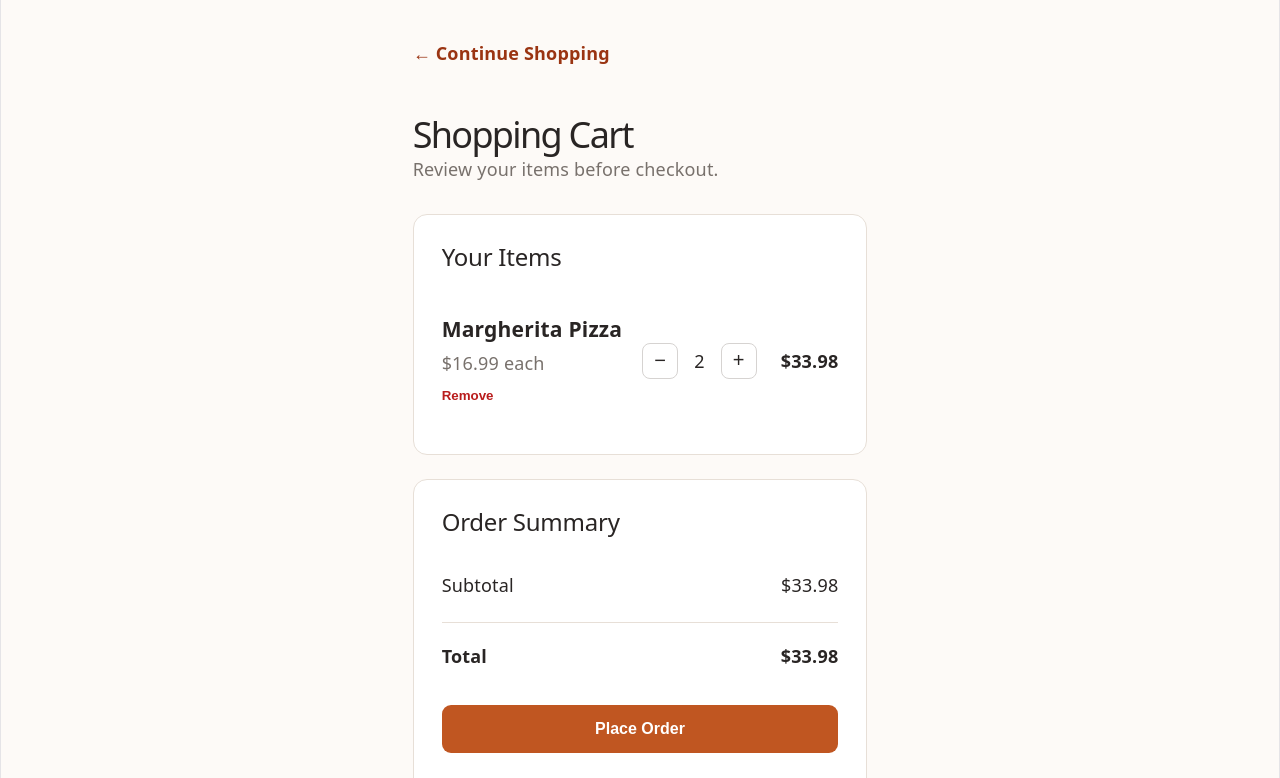
Test: Checkout › successfully creates an order and navigates to confirmation
The image size is (1280, 778).
Check: the heading "Margherita Pizza" is shown, box [442,316,622,342]
Click the button "Place Order" at [640, 729], box [442,705,838,753]
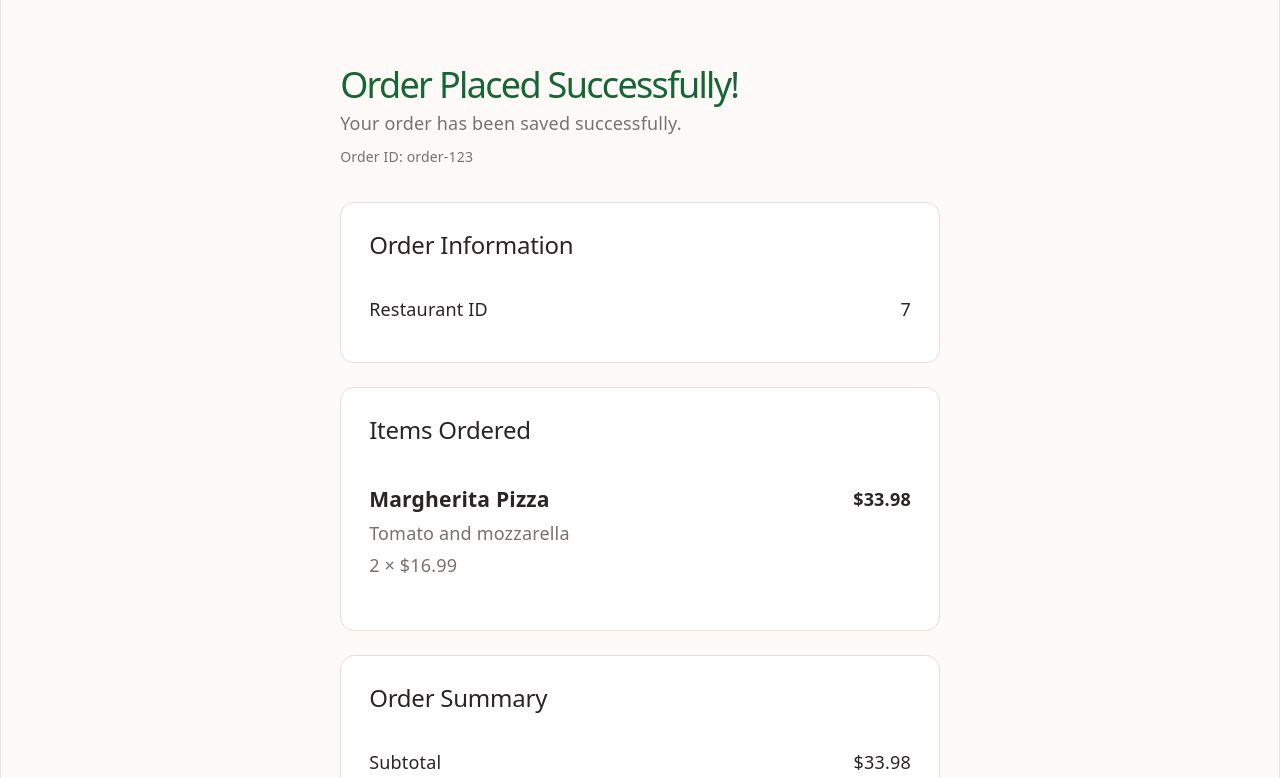
Check: the heading "Order Placed Successfully!" is shown, box [340,60,738,109]
Check: the text "Order ID: order-123" is shown, box [340,147,473,166]
